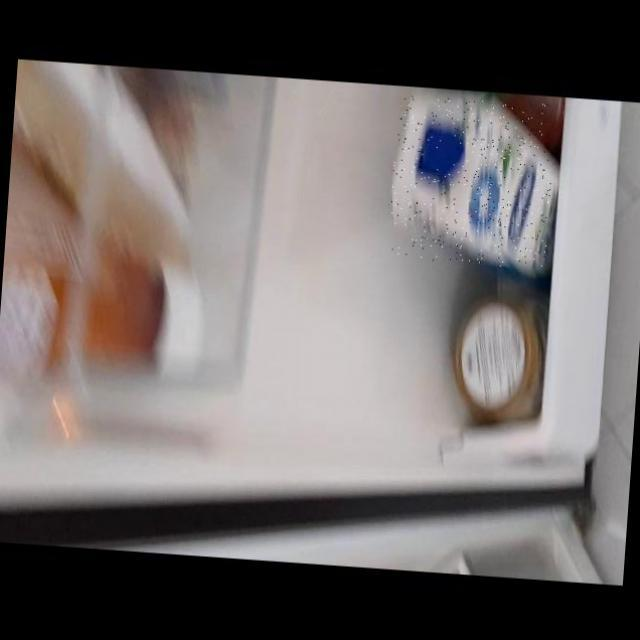milk: (387, 92, 556, 268)
